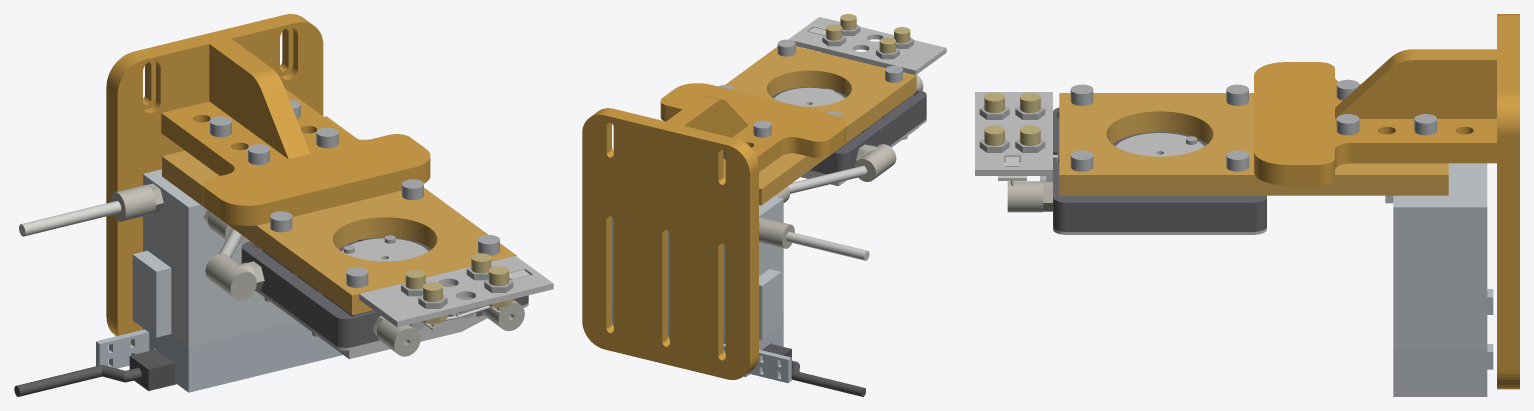
Rendered from v47_2t_dark.glb.
3 views of the same model, side by side, from view 1: azimuth 30°, elevation 25°; view 2: azimuth 150°, elevation 25°; view 3: azimuth 270°, elevation 25° (orthographic). The views are drawn at different scales.
Parts seen in each view (by area): view 1: Grace 2025 앵글 브래킷 "angle bracket for Ramen holder.STEP" (형상 , Grace 새 세로판 60x120x7 (재출력, 레진 가정), Ø4.5 x4 48x48, 가운데 Ø33 구멍, [배기 블록 v2] 배기 센서 블록 본체 PETG 60x29x48.5 (가스 몸 17.5 + 센서 칸 31,, [배기 블록 v2] 덮개 PETG 60x29x16 (판 2 + Pico 트레이 14): Pico 보스 4, , 커넥터 브래킷 Al (밑판 26x18x2 + 판 57x24x2): SMA 구멍 Ø6.5 x6 (3열 x 2행, 셀 몸체 Al 6061 흑색 아노다이징 70x66x10 R4 (포켓 31x31x4.5 R1.5, 블록 자리 , [배기 블록 v2] USB 케이블 (노트북으로, 타이로 선반에 고정; 노트북은 허치 안 가능), 가스 KQ2H04-M5 x2 윗면 (+X 입구, −X 예비 N2/He), Ø2 → 앞면 (±19, +22), 가스 KQ2L04-M5 엘보 −X 옆면 출구 (Y 4.5, Z -20, 관 포트 아래로; 외형 가정), Ø2, SMA 암 판넬 잭 x4 (SAMZO SMA-KY-214형, 가정): 육각 어깨 AF 8 x 3 (판 앞),, M4x12 렌치볼트 x4 (판 뒤에서 몸체 M4 탭으로, 머리 Ø7x4), M4x16 볼트 + 너트 x4 (판 아래 구멍 ↔ 브래킷 세움판 Ø5.6 구멍 y 29/53) (+5 smaller); view 2: Grace 2025 앵글 브래킷 "angle bracket for Ramen holder.STEP" (형상 , Grace 새 세로판 60x120x7 (재출력, 레진 가정), Ø4.5 x4 48x48, 가운데 Ø33 구멍, 커넥터 브래킷 Al (밑판 26x18x2 + 판 57x24x2): SMA 구멍 Ø6.5 x6 (3열 x 2행, [배기 블록 v2] 배기 센서 블록 본체 PETG 60x29x48.5 (가스 몸 17.5 + 센서 칸 31,, 셀 몸체 Al 6061 흑색 아노다이징 70x66x10 R4 (포켓 31x31x4.5 R1.5, 블록 자리 , [배기 블록 v2] 덮개 PETG 60x29x16 (판 2 + Pico 트레이 14): Pico 보스 4, , [배기 블록 v2] USB 케이블 (노트북으로, 타이로 선반에 고정; 노트북은 허치 안 가능), 가스 KQ2L04-M5 엘보 −X 옆면 출구 (Y 4.5, Z -20, 관 포트 아래로; 외형 가정), Ø2, SMA 암 판넬 잭 x4 (SAMZO SMA-KY-214형, 가정): 육각 어깨 AF 8 x 3 (판 앞),, 어두움 마개 Al Ø15.8 + 단 Ø19.8 (카운터보어 안) + 나사 턱 Ø29x0.6 + 뒷면 가운데 , [배기 블록 v2] 배출 PU 관 Ø4 (토막만 그림, 실제 >= 300 mm), PU 관 Ø4 (셀 출구 → 배기 블록 입구, 블록은 40 mm 아래) (+4 smaller); view 3: Grace 2025 앵글 브래킷 "angle bracket for Ramen holder.STEP" (형상 , Grace 새 세로판 60x120x7 (재출력, 레진 가정), Ø4.5 x4 48x48, 가운데 Ø33 구멍, [배기 블록 v2] 배기 센서 블록 본체 PETG 60x29x48.5 (가스 몸 17.5 + 센서 칸 31,, 셀 몸체 Al 6061 흑색 아노다이징 70x66x10 R4 (포켓 31x31x4.5 R1.5, 블록 자리 , [배기 블록 v2] 덮개 PETG 60x29x16 (판 2 + Pico 트레이 14): Pico 보스 4, , 커넥터 브래킷 Al (밑판 26x18x2 + 판 57x24x2): SMA 구멍 Ø6.5 x6 (3열 x 2행, M4x12 렌치볼트 x4 (판 뒤에서 몸체 M4 탭으로, 머리 Ø7x4), SMA 암 판넬 잭 x4 (SAMZO SMA-KY-214형, 가정): 육각 어깨 AF 8 x 3 (판 앞),, 어두움 마개 Al Ø15.8 + 단 Ø19.8 (카운터보어 안) + 나사 턱 Ø29x0.6 + 뒷면 가운데 , 가스 KQ2H04-M5 x2 윗면 (+X 입구, −X 예비 N2/He), Ø2 → 앞면 (±19, +22), M4x16 볼트 + 너트 x4 (판 아래 구멍 ↔ 브래킷 세움판 Ø5.6 구멍 y 29/53), SMA 너트 AF 8 (모서리 9.24) x 2 x4 (판 뒷면 Y 18–20; 평면이 ±X를 봄 → 렌치는 (+1 smaller).
Part boxes in pixels (x1,y1,x2,y2): Grace 2025 앵글 브래킷 "angle bracket for Ramen holder.STEP" (형상 : (106, 14, 430, 343); Grace 새 세로판 60x120x7 (재출력, 레진 가정), Ø4.5 x4 48x48, 가운데 Ø33 구멍: (162, 116, 516, 315); [배기 블록 v2] 배기 센서 블록 본체 PETG 60x29x48.5 (가스 몸 17.5 + 센서 칸 31,: (132, 169, 295, 346); [배기 블록 v2] 덮개 PETG 60x29x16 (판 2 + Pico 트레이 14): Pico 보스 4, : (96, 320, 342, 392); 커넥터 브래킷 Al (밑판 26x18x2 + 판 57x24x2): SMA 구멍 Ø6.5 x6 (3열 x 2행: (359, 255, 553, 333); 셀 몸체 Al 6061 흑색 아노다이징 70x66x10 R4 (포켓 31x31x4.5 R1.5, 블록 자리 : (241, 237, 528, 347); [배기 블록 v2] USB 케이블 (노트북으로, 타이로 선반에 고정; 노트북은 허치 안 가능): (14, 349, 176, 396); 가스 KQ2H04-M5 x2 윗면 (+X 입구, −X 예비 N2/He), Ø2 → 앞면 (±19, +22): (372, 299, 524, 356); 가스 KQ2L04-M5 엘보 −X 옆면 출구 (Y 4.5, Z -20, 관 포트 아래로; 외형 가정), Ø2: (205, 254, 264, 300); SMA 암 판넬 잭 x4 (SAMZO SMA-KY-214형, 가정): 육각 어깨 AF 8 x 3 (판 앞),: (405, 253, 513, 327); M4x12 렌치볼트 x4 (판 뒤에서 몸체 M4 탭으로, 머리 Ø7x4): (270, 179, 499, 287); M4x16 볼트 + 너트 x4 (판 아래 구멍 ↔ 브래킷 세움판 Ø5.6 구멍 y 29/53): (210, 99, 338, 164); Grace 2025 앵글 브래킷 "angle bracket for Ramen holder.STEP" (형상 : (582, 83, 846, 379); Grace 새 세로판 60x120x7 (재출력, 레진 가정), Ø4.5 x4 48x48, 가운데 Ø33 구멍: (725, 46, 916, 205); 커넥터 브래킷 Al (밑판 26x18x2 + 판 57x24x2): SMA 구멍 Ø6.5 x6 (3열 x 2행: (788, 17, 946, 75); [배기 블록 v2] 배기 센서 블록 본체 PETG 60x29x48.5 (가스 몸 17.5 + 센서 칸 31,: (612, 196, 783, 339); 셀 몸체 Al 6061 흑색 아노다이징 70x66x10 R4 (포켓 31x31x4.5 R1.5, 블록 자리 : (772, 87, 926, 174); [배기 블록 v2] 덮개 PETG 60x29x16 (판 2 + Pico 트레이 14): Pico 보스 4, : (612, 307, 791, 383); [배기 블록 v2] USB 케이블 (노트북으로, 타이로 선반에 고정; 노트북은 허치 안 가능): (762, 344, 865, 396); 가스 KQ2L04-M5 엘보 −X 옆면 출구 (Y 4.5, Z -20, 관 포트 아래로; 외형 가정), Ø2: (854, 144, 896, 181); SMA 암 판넬 잭 x4 (SAMZO SMA-KY-214형, 가정): 육각 어깨 AF 8 x 3 (판 앞),: (826, 14, 910, 67); 어두움 마개 Al Ø15.8 + 단 Ø19.8 (카운터보어 안) + 나사 턱 Ø29x0.6 + 뒷면 가운데 : (774, 87, 844, 106); [배기 블록 v2] 배출 PU 관 Ø4 (토막만 그림, 실제 >= 300 mm): (786, 231, 869, 260); PU 관 Ø4 (셀 출구 → 배기 블록 입구, 블록은 40 mm 아래): (788, 165, 866, 193); Grace 2025 앵글 브래킷 "angle bracket for Ramen holder.STEP" (형상 : (1254, 14, 1519, 389); Grace 새 세로판 60x120x7 (재출력, 레진 가정), Ø4.5 x4 48x48, 가운데 Ø33 구멍: (1059, 93, 1448, 195); [배기 블록 v2] 배기 센서 블록 본체 PETG 60x29x48.5 (가스 몸 17.5 + 센서 칸 31,: (1385, 163, 1487, 349); 셀 몸체 Al 6061 흑색 아노다이징 70x66x10 R4 (포켓 31x31x4.5 R1.5, 블록 자리 : (1053, 107, 1266, 231); [배기 블록 v2] 덮개 PETG 60x29x16 (판 2 + Pico 트레이 14): Pico 보스 4, : (1393, 289, 1493, 396); 커넥터 브래킷 Al (밑판 26x18x2 + 판 57x24x2): SMA 구멍 Ø6.5 x6 (3열 x 2행: (975, 92, 1052, 181); M4x12 렌치볼트 x4 (판 뒤에서 몸체 M4 탭으로, 머리 Ø7x4): (1070, 84, 1248, 171); SMA 암 판넬 잭 x4 (SAMZO SMA-KY-214형, 가정): 육각 어깨 AF 8 x 3 (판 앞),: (984, 92, 1040, 162); 어두움 마개 Al Ø15.8 + 단 Ø19.8 (카운터보어 안) + 나사 턱 Ø29x0.6 + 뒷면 가운데 : (1115, 133, 1204, 156); 가스 KQ2H04-M5 x2 윗면 (+X 입구, −X 예비 N2/He), Ø2 → 앞면 (±19, +22): (1007, 181, 1052, 212); M4x16 볼트 + 너트 x4 (판 아래 구멍 ↔ 브래킷 세움판 Ø5.6 구멍 y 29/53): (1336, 79, 1436, 135); SMA 너트 AF 8 (모서리 9.24) x 2 x4 (판 뒷면 Y 18–20; 평면이 ±X를 봄 → 렌치는: (979, 105, 1045, 152).
Size of the model in its own units: 117 by 104 by 168.
